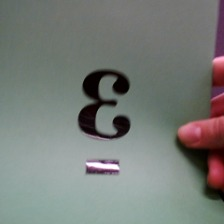green3: (68, 61, 142, 181)
